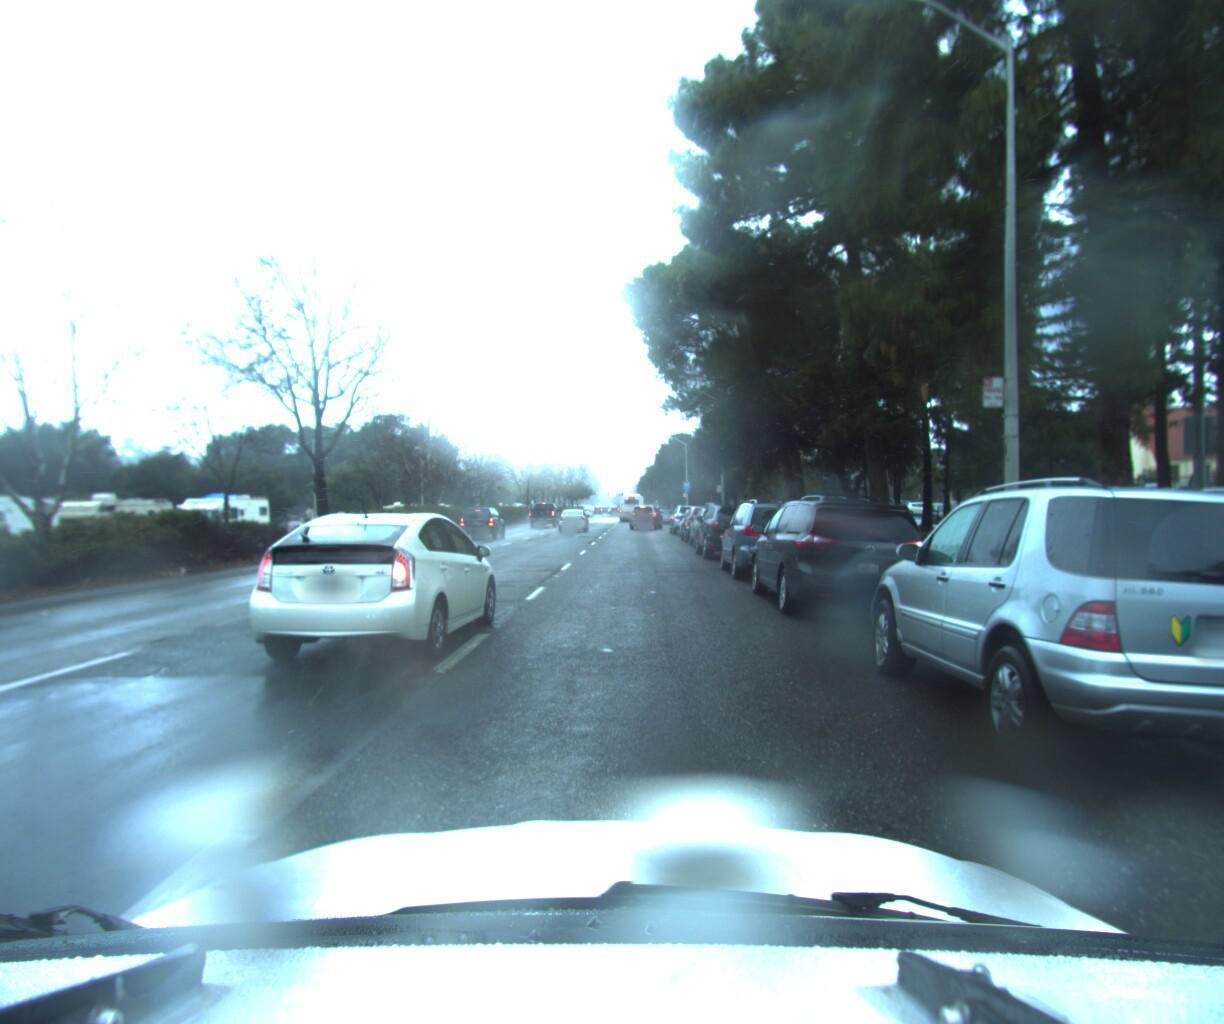bus: (618, 488, 646, 521)
car: (846, 468, 1224, 826), (239, 504, 511, 681), (740, 491, 946, 630), (710, 496, 837, 586), (690, 502, 773, 561), (678, 505, 728, 543), (461, 509, 509, 542), (666, 502, 705, 534), (626, 501, 667, 530), (556, 508, 591, 535), (528, 505, 563, 528)
other_vehicle: (36, 494, 182, 564), (165, 493, 276, 554), (0, 491, 69, 580)
